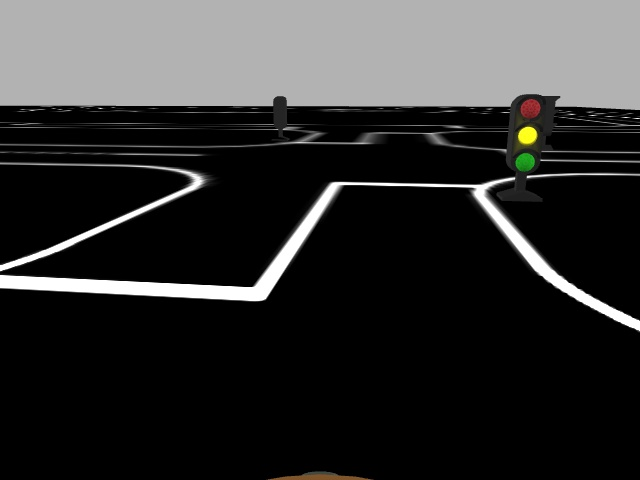yellow_light: (508, 93, 546, 174)
